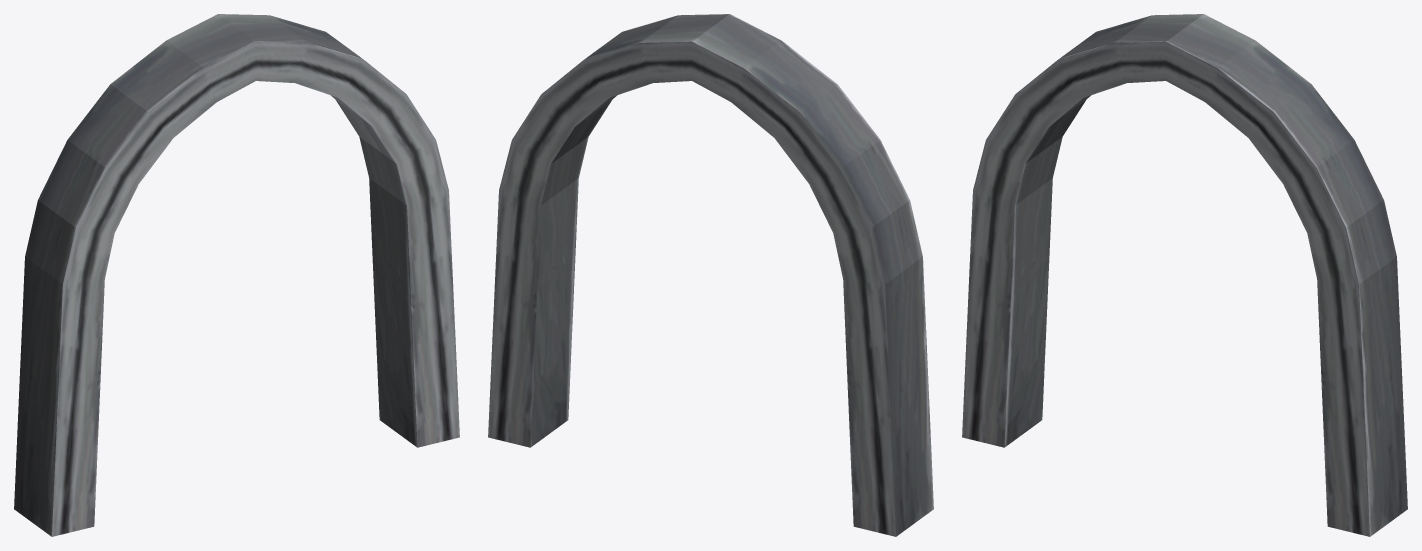
File: e_throne_wall_largeentrance_frame.fbx
The picture shows the model from 3 angles, left to right: view 1: azimuth 30°, elevation 25°; view 2: azimuth 150°, elevation 25°; view 3: azimuth 330°, elevation 25°; orthographic projection.
Parts seen in each view (by area): view 1: polySurface1487; view 2: polySurface1487; view 3: polySurface1487.
Part boxes in pixels (x1=…): polySurface1487: x1=14, y1=14, x2=459, y2=536; polySurface1487: x1=488, y1=14, x2=933, y2=536; polySurface1487: x1=962, y1=14, x2=1407, y2=536.
Size of the model in its own units: 4.61 by 4.81 by 0.7419.
